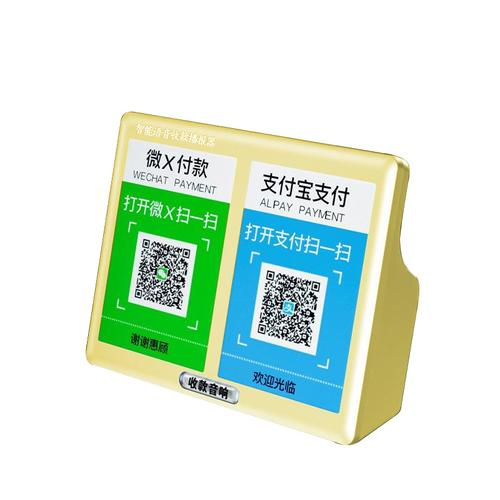QRCode: (253, 267, 322, 347), (133, 236, 196, 314)
